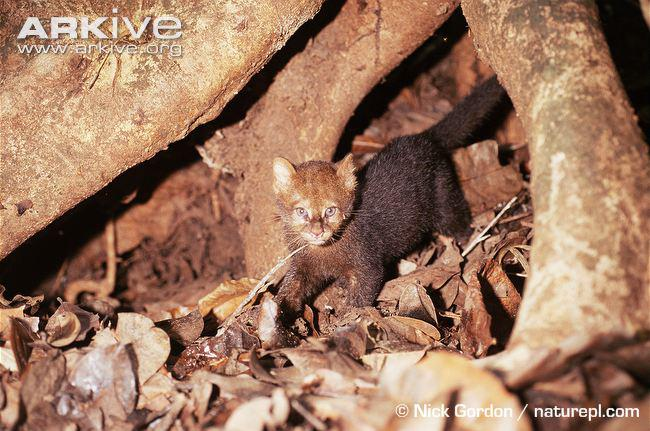Jaguarundi: (263, 96, 498, 306)
